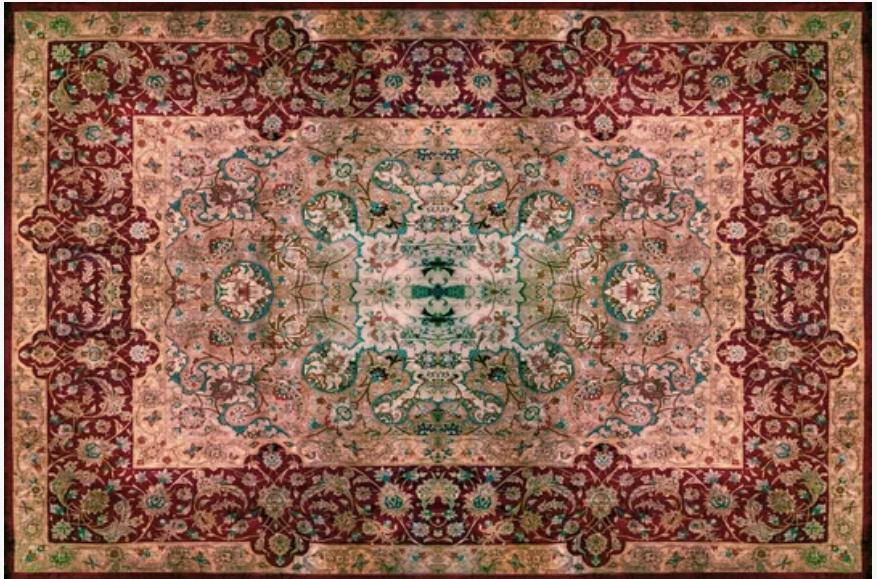carpet: (7, 5, 871, 577)
